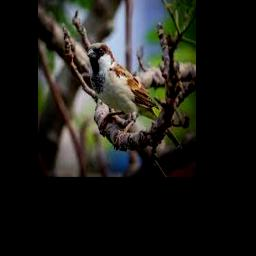Sparrow: (87, 42, 159, 141)
